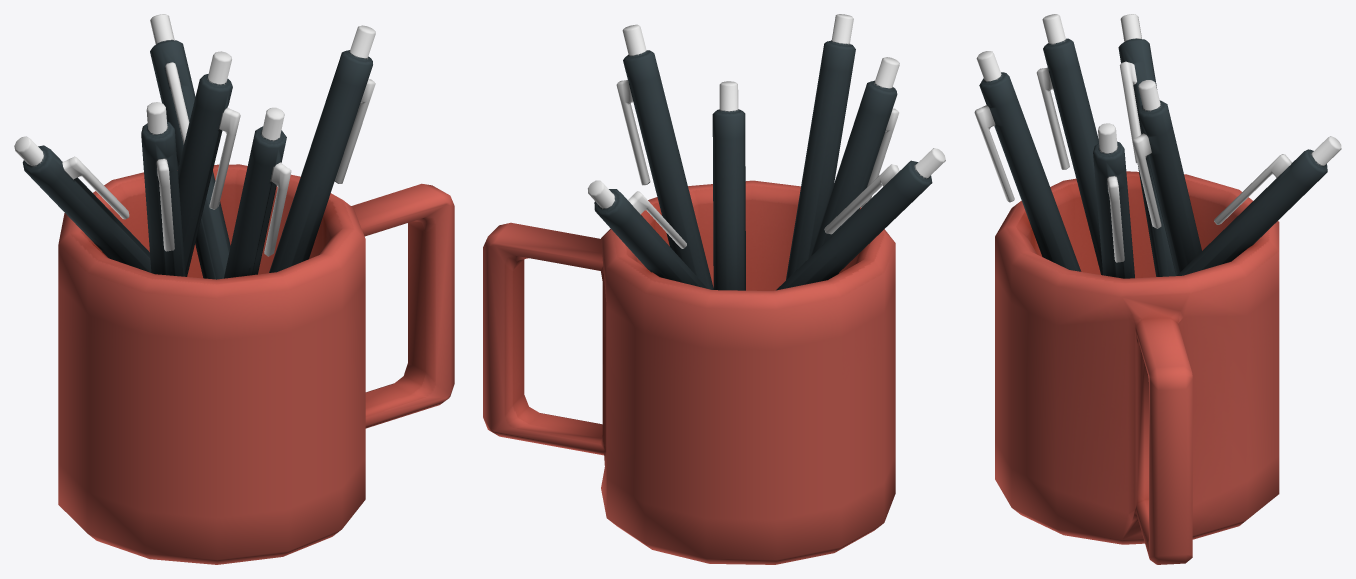
Rendered from MugWithPens.glb.
The picture shows the model from 3 angles, left to right: view 1: azimuth 30°, elevation 25°; view 2: azimuth 150°, elevation 25°; view 3: azimuth 270°, elevation 25°; orthographic projection. The views are drawn at different scales.
Parts seen in each view (by area): view 1: Cylinder, Cylinder.002, Cylinder.006, Cylinder.005, Cylinder.001, Cylinder.004, Cylinder.003; view 2: Cylinder, Cylinder.002, Cylinder.001, Cylinder.005, Cylinder.006, Cylinder.003, Cylinder.004; view 3: Cylinder, Cylinder.001, Cylinder.003, Cylinder.006, Cylinder.004, Cylinder.002, Cylinder.005.
Boxes of the visible parts, x1,y1,x2,y2 form: Cylinder: (58, 164, 454, 564); Cylinder.002: (269, 25, 375, 272); Cylinder.006: (178, 51, 240, 276); Cylinder.005: (14, 136, 151, 272); Cylinder.001: (224, 107, 291, 278); Cylinder.004: (150, 14, 230, 279); Cylinder.003: (141, 102, 185, 276); Cylinder: (483, 180, 895, 564); Cylinder.002: (616, 24, 713, 289); Cylinder.001: (786, 14, 855, 279); Cylinder.005: (776, 148, 945, 290); Cylinder.006: (712, 81, 745, 290); Cylinder.003: (810, 57, 899, 274); Cylinder.004: (587, 180, 707, 288); Cylinder: (995, 171, 1279, 564); Cylinder.001: (974, 51, 1081, 271); Cylinder.003: (1036, 14, 1102, 275); Cylinder.006: (1132, 80, 1201, 275); Cylinder.004: (1177, 136, 1341, 275); Cylinder.002: (1093, 123, 1134, 278); Cylinder.005: (1118, 14, 1175, 276).
Bounding box in the file's own units: 3.38 × 3.27 × 2.54.
3 materials, 2 textured.
